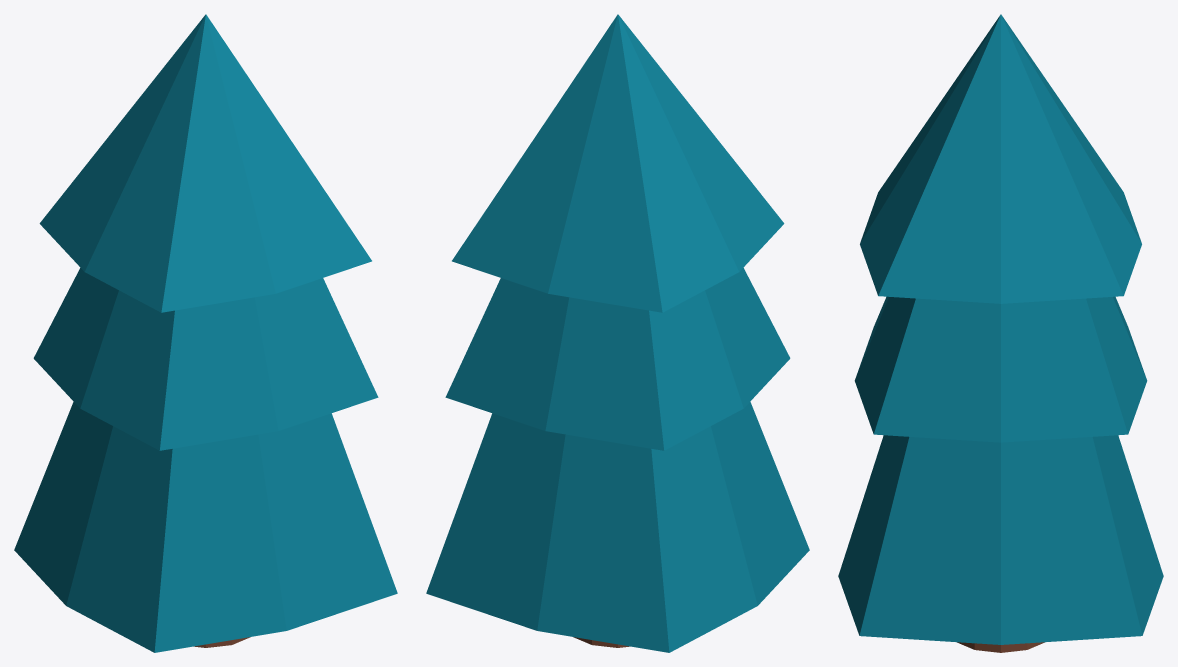
File: Tree_23_summer_blue_mat.fbx
The picture shows the model from 3 angles, left to right: view 1: azimuth 30°, elevation 25°; view 2: azimuth 150°, elevation 25°; view 3: azimuth 270°, elevation 25°; orthographic projection.
Visible parts, largest first — view 1: Tree_23_summer_blue_mat; view 2: Tree_23_summer_blue_mat; view 3: Tree_23_summer_blue_mat.
Boxes of the visible parts, left/top/right/bottom form: Tree_23_summer_blue_mat: left=14, top=14, right=397, bottom=652; Tree_23_summer_blue_mat: left=426, top=14, right=809, bottom=652; Tree_23_summer_blue_mat: left=838, top=14, right=1163, bottom=652.
Bounding box in the file's own units: 90.1 × 188 × 90.1.
